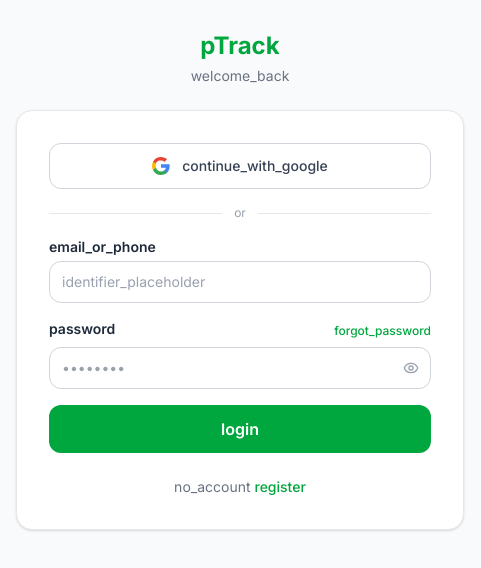
Login page › shows validation errors when submitted with empty fields
Step 1. Click the button "login" → (240, 429), box top-left (49, 405), bottom-right (431, 453)
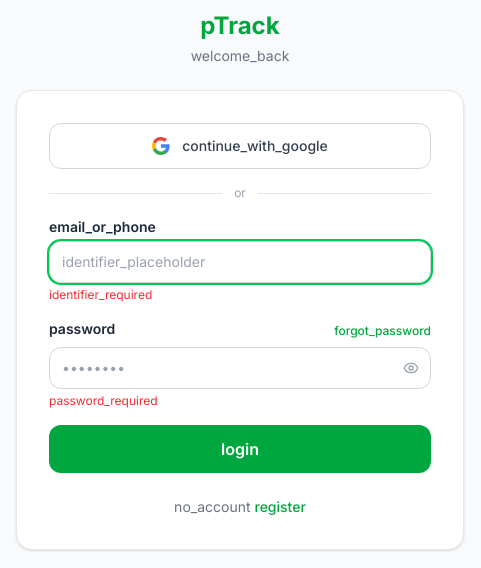
Result: the text "identifier_required" is shown at top-left (49, 287), bottom-right (152, 302)
Result: the text "password_required" is shown at top-left (49, 393), bottom-right (158, 408)
